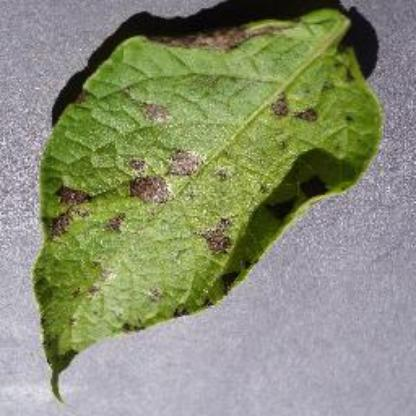Early-Blight: (32, 9, 395, 389)
